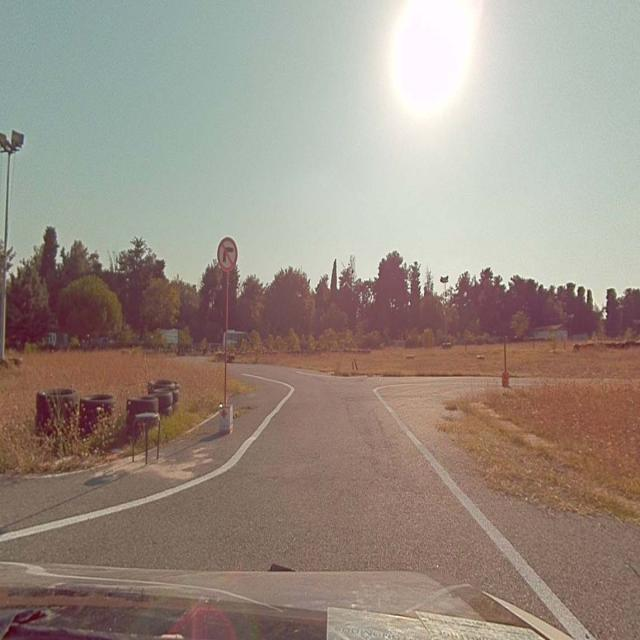sagadonulmez: (217, 238, 237, 270)
